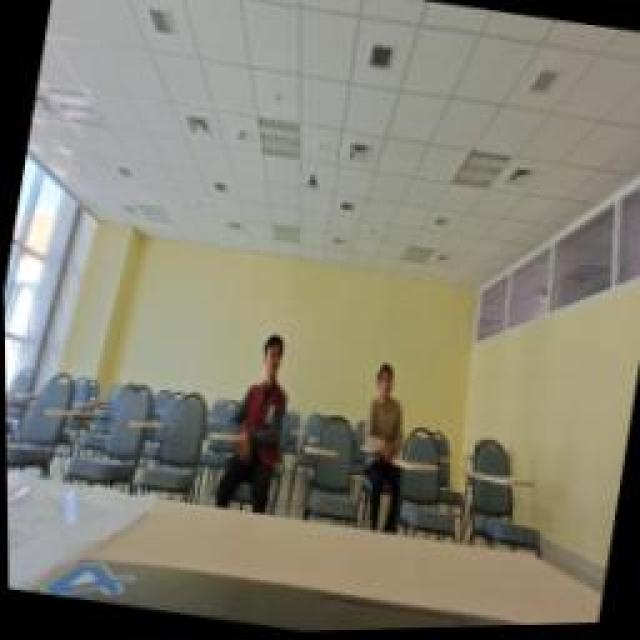study: (228, 328, 298, 448), (360, 362, 415, 462)
